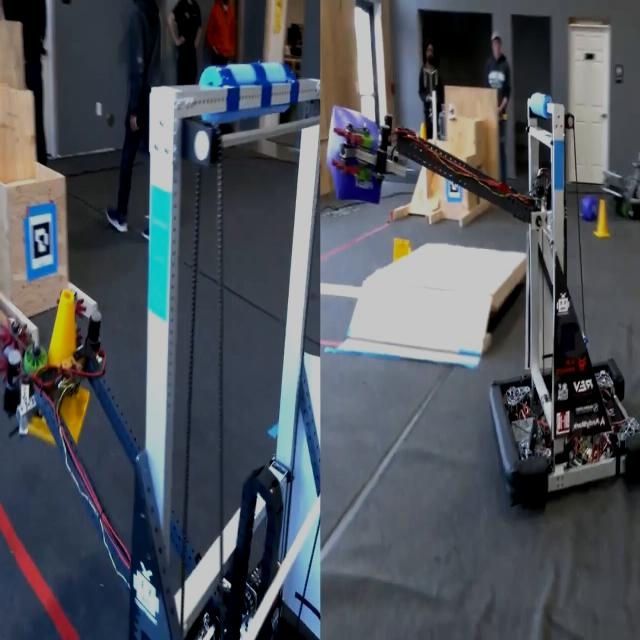frc_cone: (23, 282, 92, 452), (389, 233, 416, 266), (594, 197, 612, 243), (415, 112, 431, 154)
frc_cube: (329, 111, 387, 203), (575, 184, 600, 226)
